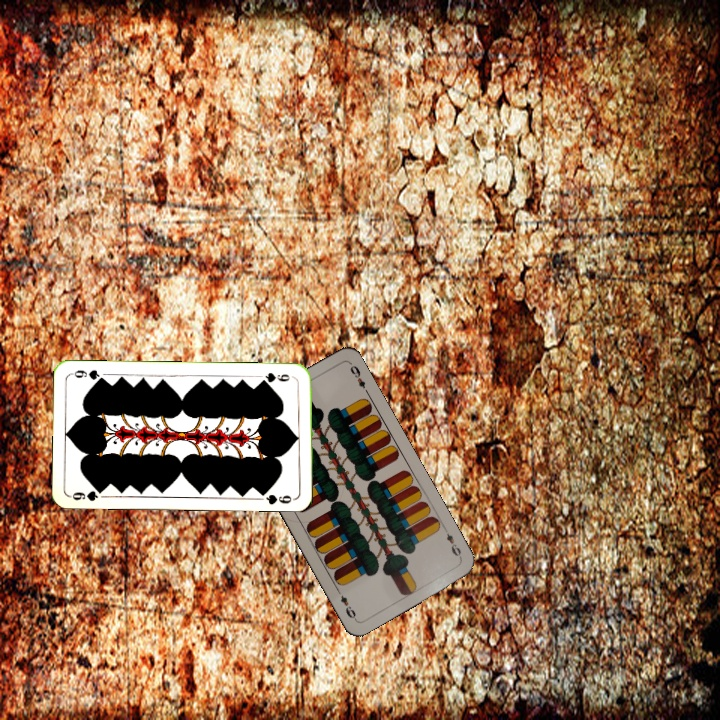E9: (440, 524, 464, 562)
G9: (67, 484, 107, 503), (257, 368, 292, 385)
